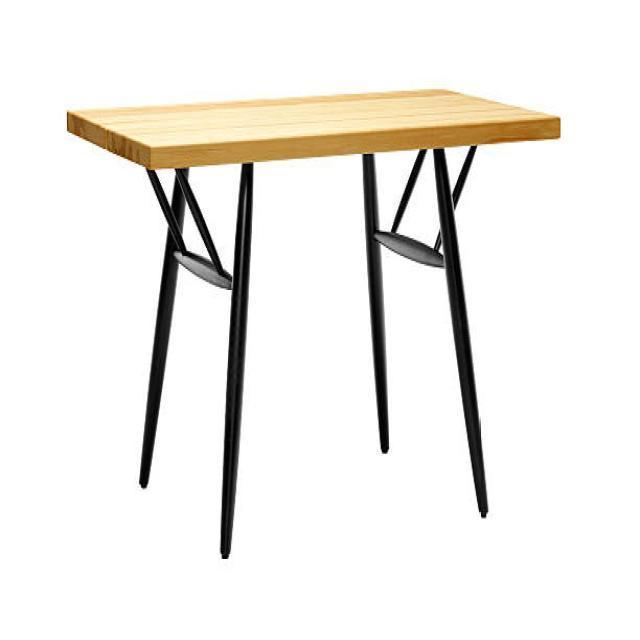table: (66, 88, 560, 558)
